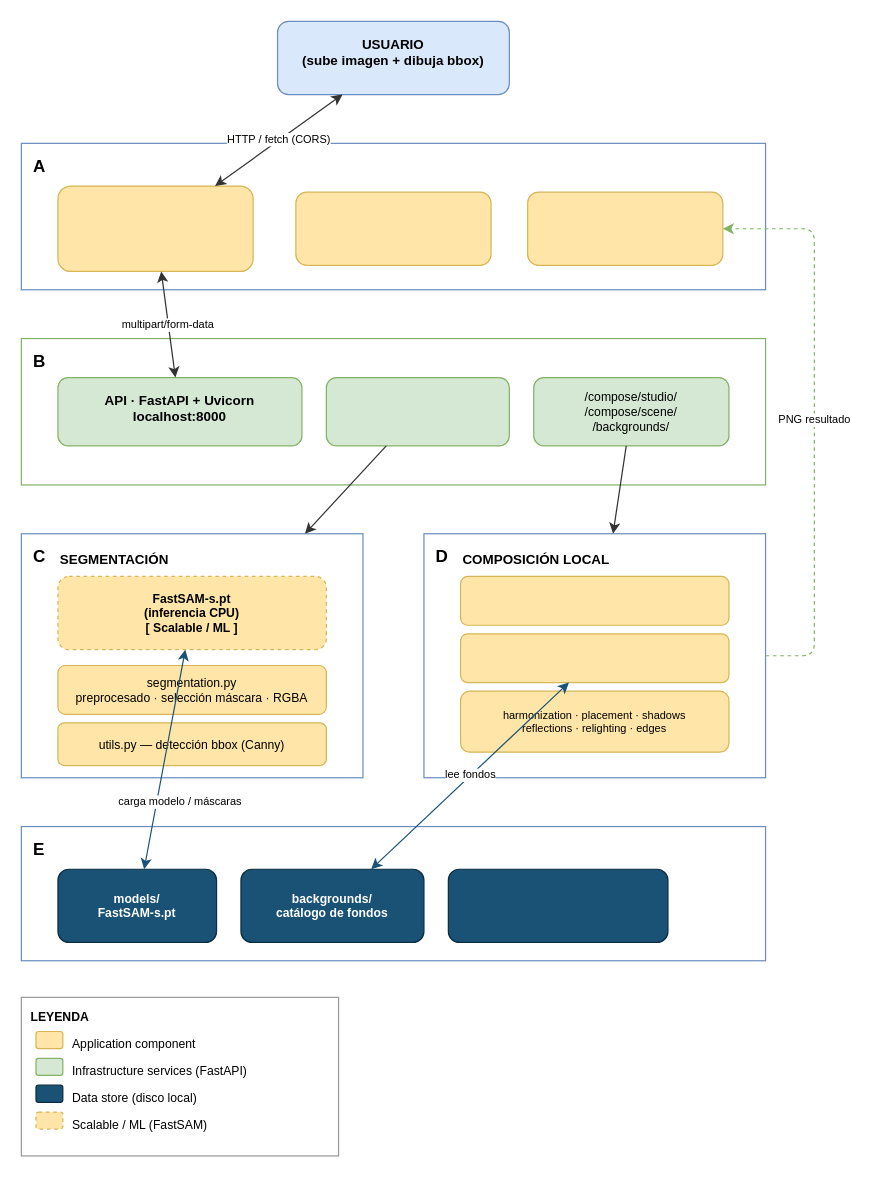
This 871x1177 diagram has some shape labels left out. Here are the shapes that lost their labels. From the top down, the centre of each, then its label:
the point at 155,228: FRONTEND React 19 · Vite · Tailwind localhost:5173
the point at 393,228: Canvas bbox interactivo
the point at 624,228: Panel resultado + descarga PNG
the point at 417,411: /segment_bbox/ /segment_auto/
the point at 594,600: studio.py — fondo procedural de estudio
the point at 594,658: scene.py — fondo del catálogo + armonización
the point at 557,905: debug_segmentation/ debug_auto/
